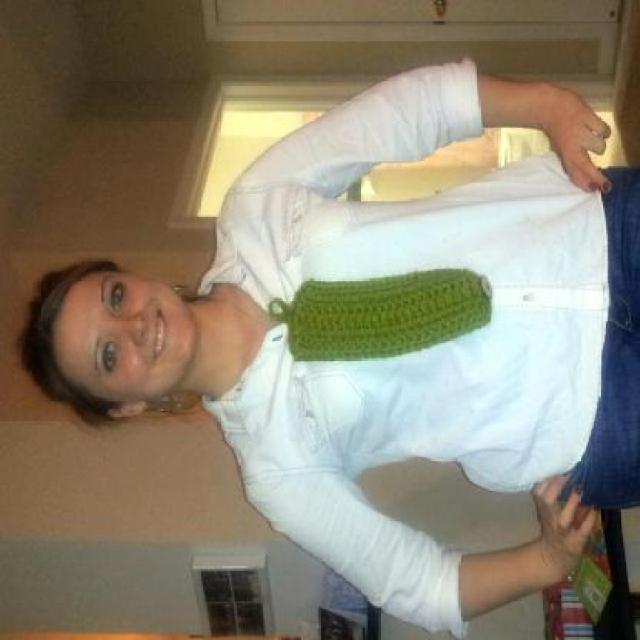Person: (62, 64, 636, 638)
